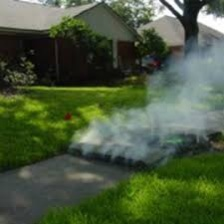smoke: (91, 76, 208, 159)
